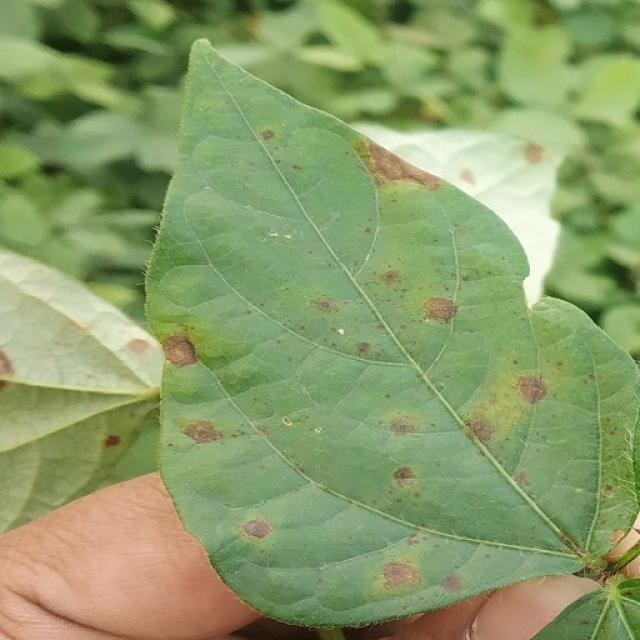Anthracnose: (363, 137, 444, 190), (413, 288, 470, 332), (382, 463, 423, 505), (161, 333, 198, 368), (346, 132, 376, 173), (516, 374, 549, 405), (381, 561, 418, 588), (183, 419, 221, 445), (554, 531, 588, 560), (468, 419, 496, 443), (243, 518, 272, 540), (310, 295, 339, 313), (389, 417, 417, 435), (392, 465, 416, 485), (523, 142, 544, 164), (0, 348, 14, 379), (440, 574, 463, 592), (379, 269, 401, 286), (127, 338, 150, 354), (512, 470, 530, 487), (355, 341, 372, 357), (103, 435, 121, 448), (255, 424, 272, 437), (405, 531, 420, 545), (601, 484, 615, 498), (261, 129, 275, 141), (282, 416, 292, 426), (587, 373, 597, 382), (364, 226, 373, 234), (292, 164, 302, 171), (580, 619, 590, 626)
Blackgram: (144, 38, 639, 639)
